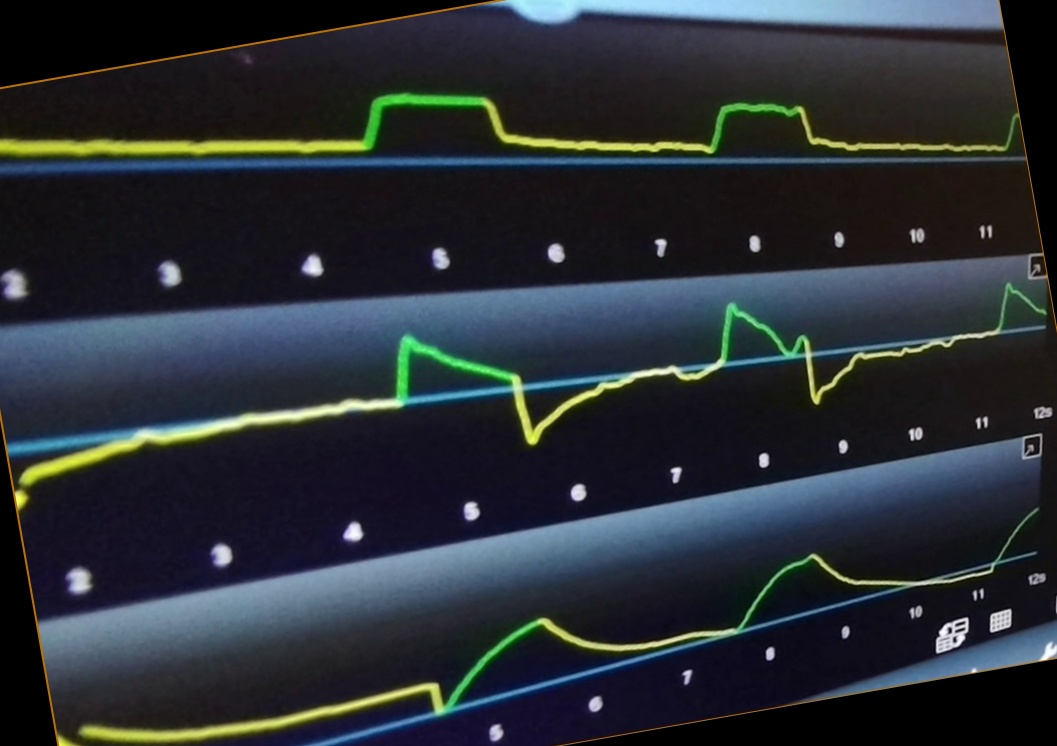Double_Triggering Flow: (104, 287, 1043, 449)
Double_Triggering Volume: (236, 554, 999, 720)
